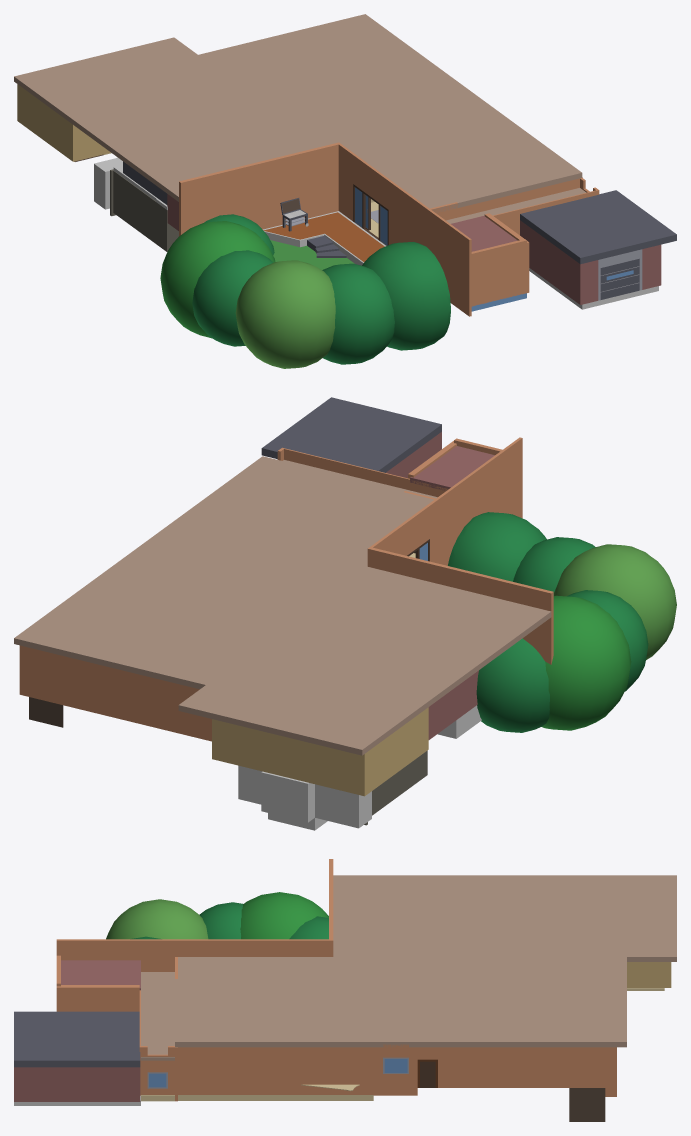
File: Map4.fbx
The picture shows the model from 3 angles, top to bottom: view 1: azimuth 30°, elevation 25°; view 2: azimuth 150°, elevation 25°; view 3: azimuth 270°, elevation 25°; orthographic projection. The views are drawn at different scales.
Visible parts, largest first — view 1: Map3; view 2: Map3; view 3: Map3.
Boxes of the visible parts, x1,y1,x2,y2 form: Map3: [14, 14, 676, 368]; Map3: [14, 397, 676, 830]; Map3: [14, 859, 676, 1121].
Size of the model in its own units: 12710 by 4360 by 18360.
